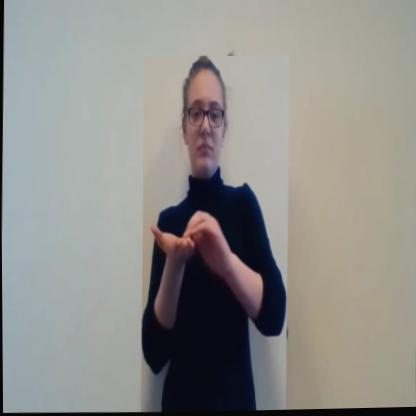ExcuseMe: (137, 54, 290, 414)
